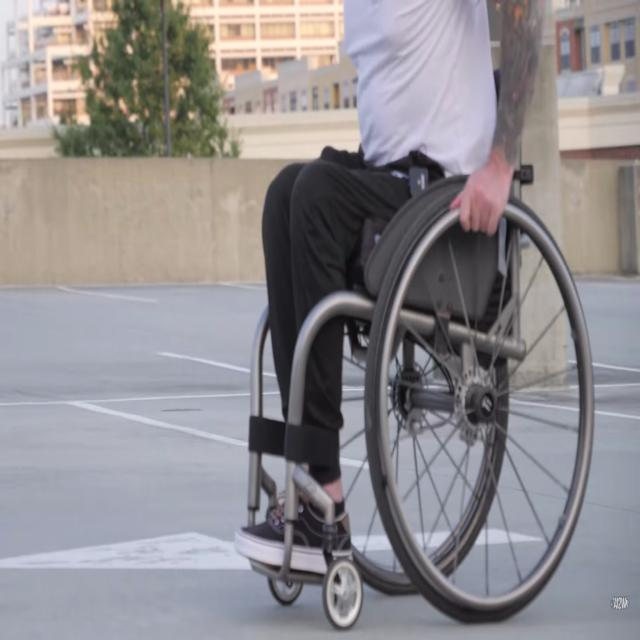wheelchairs: (231, 180, 599, 618)
